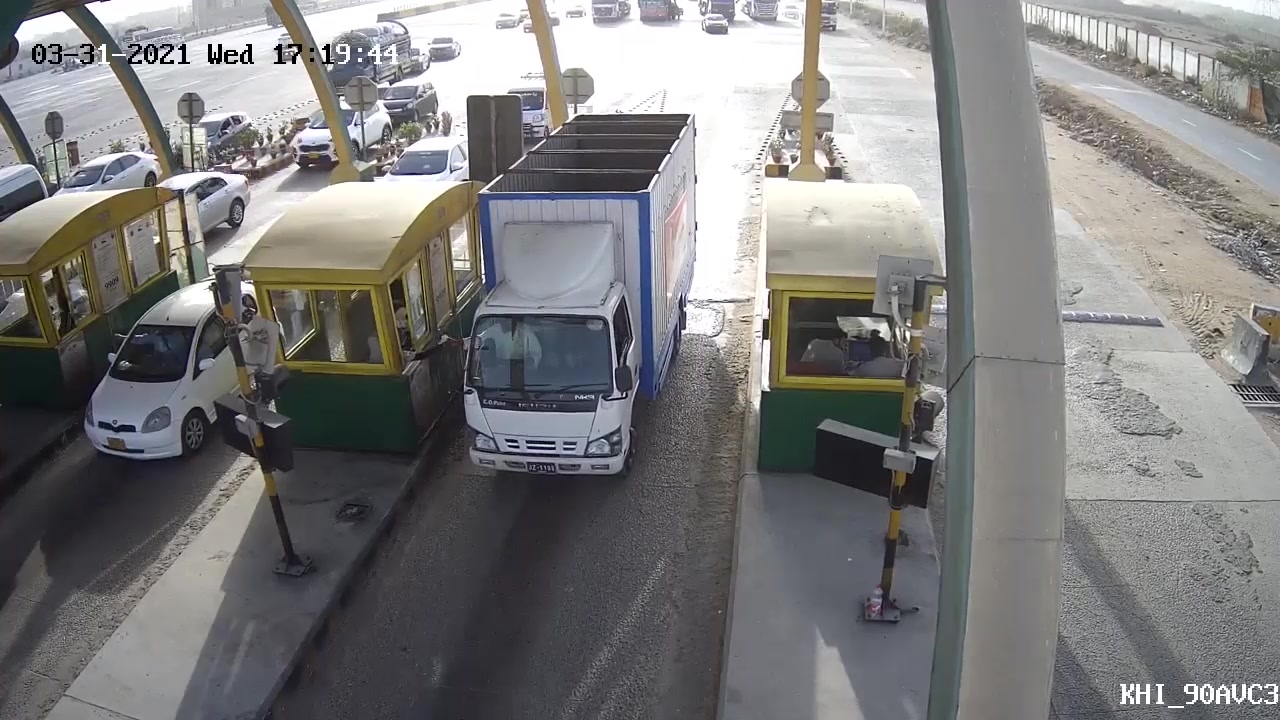F5: (446, 112, 705, 494)
